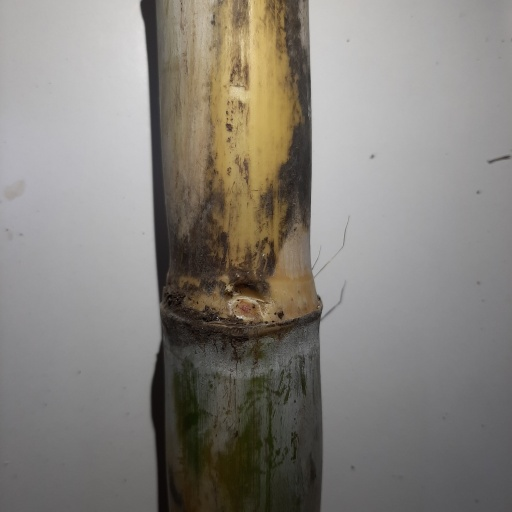Damage_Bud: (228, 284, 266, 324)
